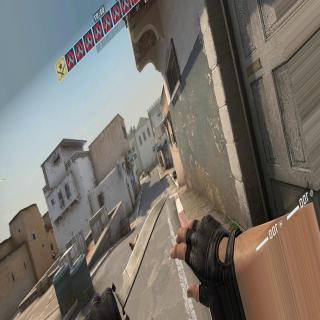CT-Body: (52, 251, 57, 260), (148, 168, 150, 178)
CT-Head: (148, 169, 149, 171), (54, 251, 54, 254)
